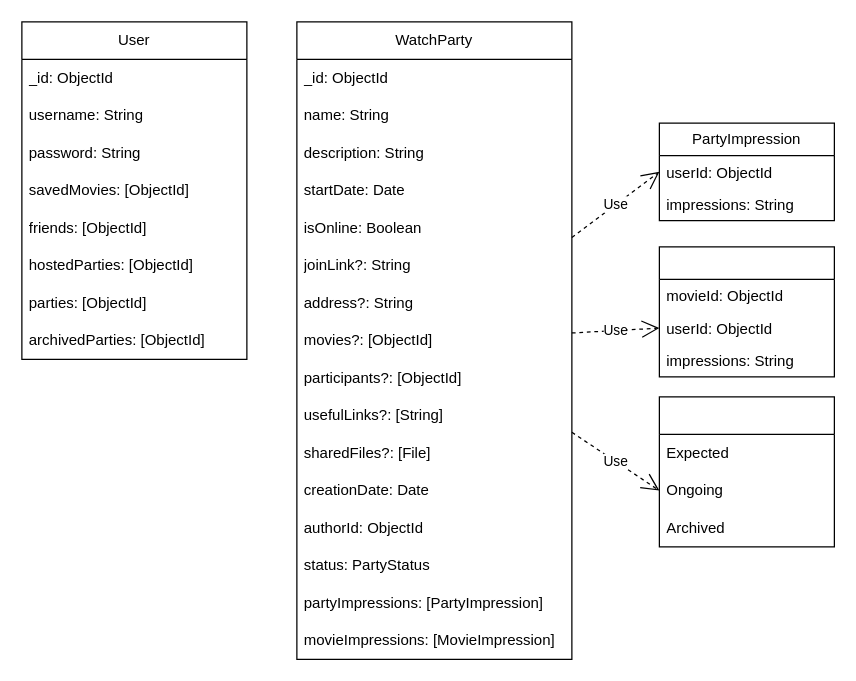
Image size: 856x681. Some labels were removed from this diagram. Here are the shapes that lost their labels. From the top down, the box of each, then its label:
(658, 246, 834, 377): MovieImpression
(658, 396, 834, 547): <<Enum>> PartyStatus
